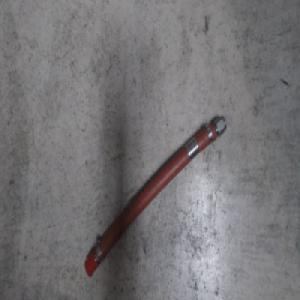Hose: (82, 113, 227, 280)
